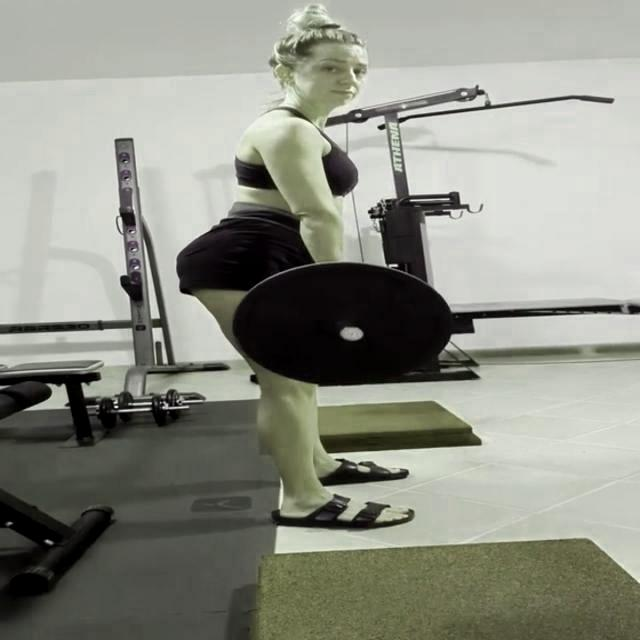barbell: (227, 258, 459, 390)
